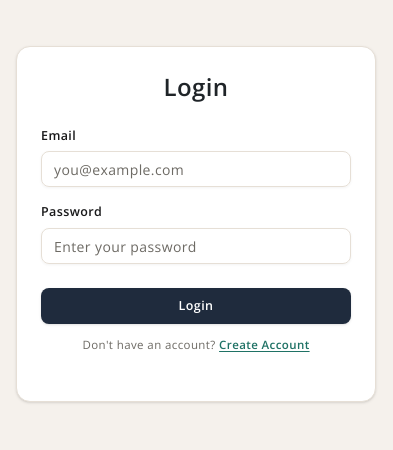
LoginPage › shows a network error message when the request throws
Type "ada@example.com" into the field labelled "Email". click: {"x": 196, "y": 169}
box: left=41, top=151, right=351, bottom=187
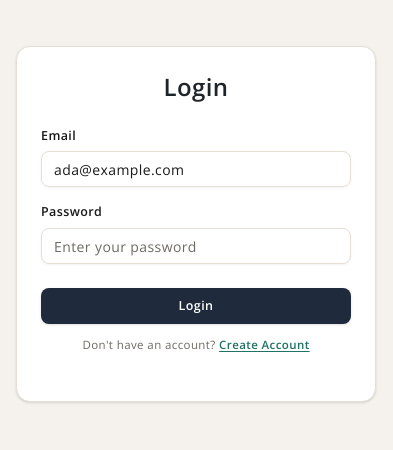
Type "Secret123" into the password field labelled "Password". click: {"x": 196, "y": 246}
box: left=41, top=228, right=351, bottom=264
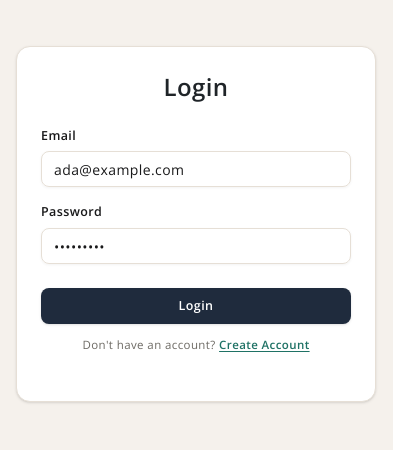
Click the button "Login". click: {"x": 196, "y": 306}
box: left=41, top=288, right=351, bottom=324
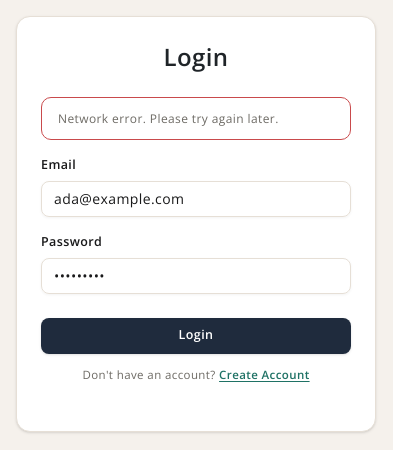
Expected: the text "Network error. Please try again later." is shown, left=58, top=110, right=279, bottom=127
